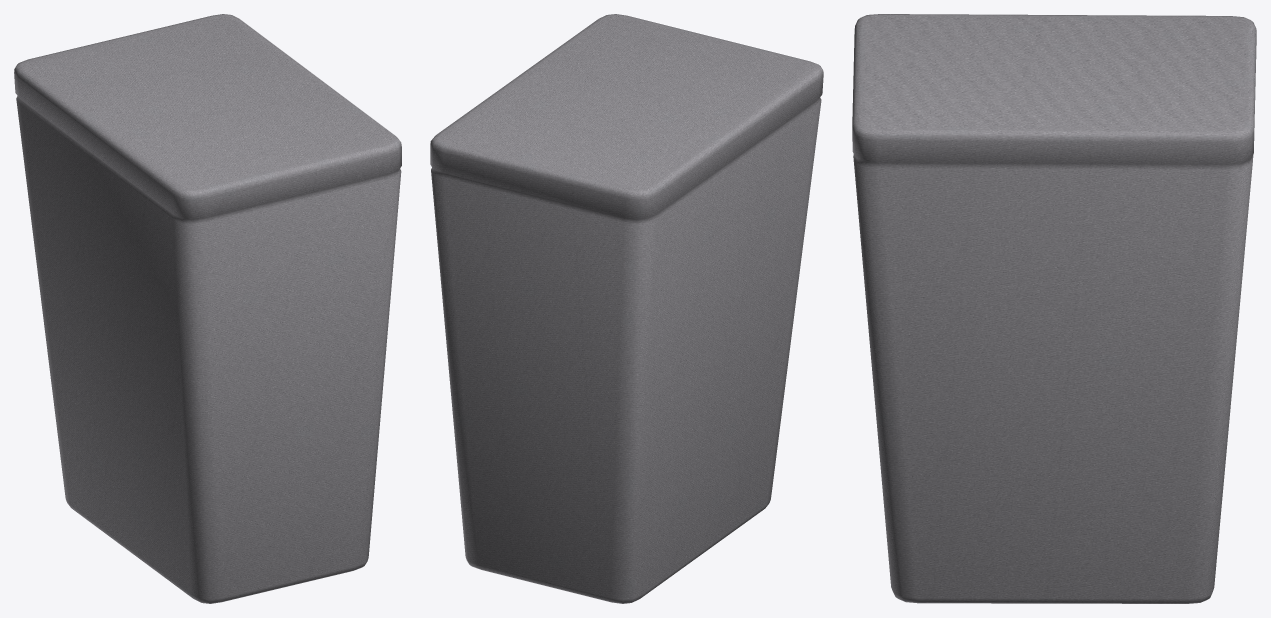
File: frl_apartment_bin_03.glb
The picture shows the model from 3 angles, left to right: view 1: azimuth 30°, elevation 25°; view 2: azimuth 150°, elevation 25°; view 3: azimuth 270°, elevation 25°; orthographic projection. The views are drawn at different scales.
Visible parts, largest first — view 1: frl_apartment_bin_03; view 2: frl_apartment_bin_03; view 3: frl_apartment_bin_03.
Part boxes in pixels (bbox=[...]): frl_apartment_bin_03: bbox=[14, 14, 401, 603]; frl_apartment_bin_03: bbox=[430, 14, 823, 603]; frl_apartment_bin_03: bbox=[852, 14, 1256, 603].
Size of the model in its own units: 0.3344 by 0.6113 by 0.4657.
Materials: 1 (1 with a texture image).
